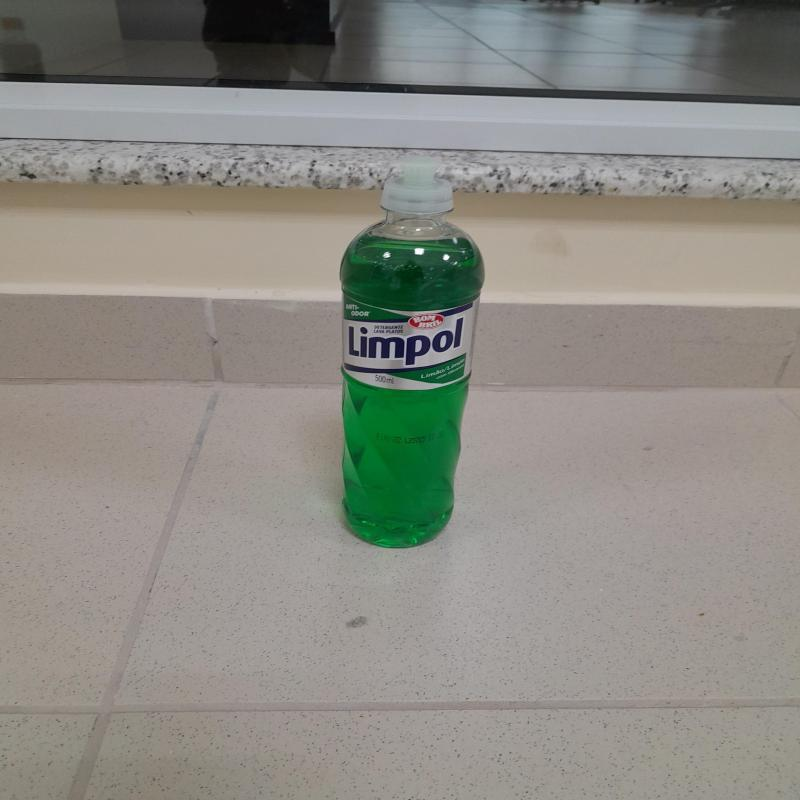Cleaner: (336, 165, 485, 548)
